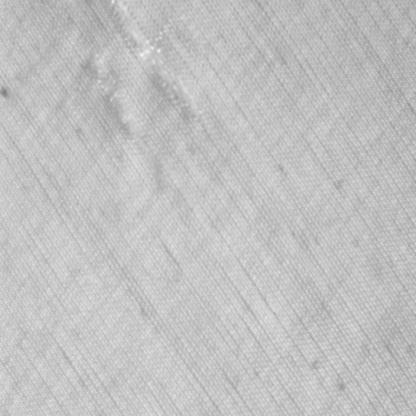thread error: (112, 1, 204, 131), (76, 28, 130, 116)
